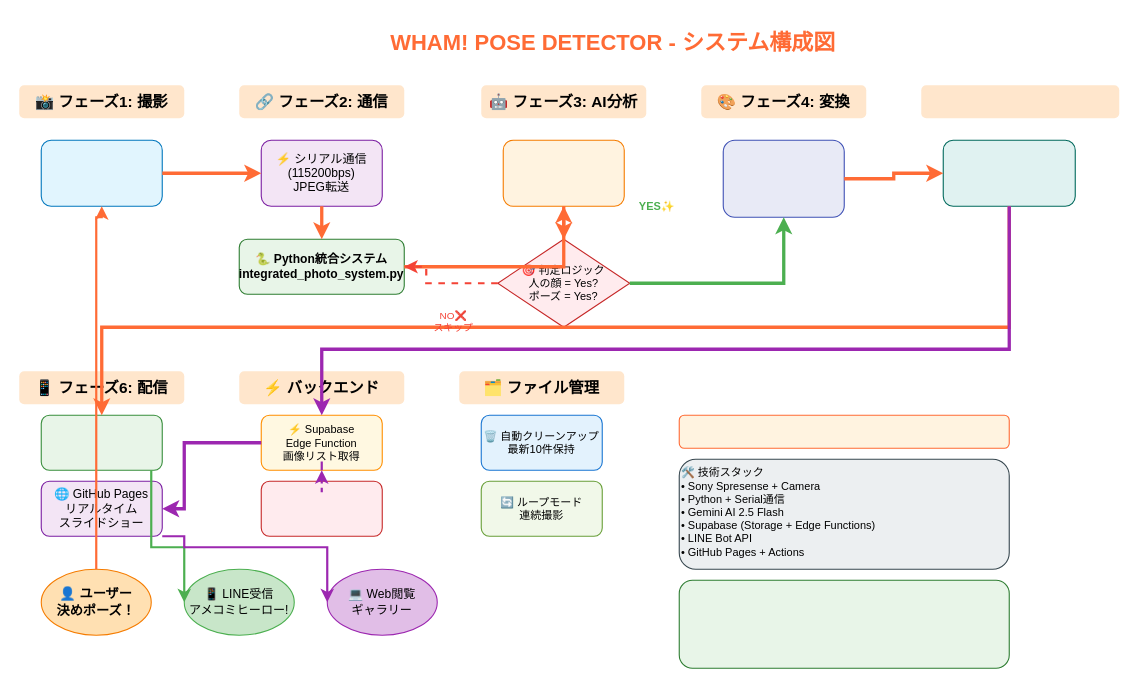
The diagram is 1137 pixels wide and 688 high, and some of its shapes have lost their labels. Here are the shapes that lost their labels. From the top down, the box of each, then its label:
(921, 85, 1119, 118): ☁️ フェーズ5: アップロード
(40, 139, 162, 206): 📷 Sony Spresense Camera Board
(502, 139, 624, 206): ✨ Gemini AI 2.5 Flash 人物・ポーズ検出 JSON応答
(722, 139, 844, 217): 💥 アメコミ風変換 ・太い輪郭線 ・鮮やか色彩 ・効果音追加
(942, 139, 1075, 206): 🗄️ Supabase Storage 画像アップロード 公開URL生成
(40, 414, 162, 470): 💬 LINE Bot アメコミ画像送信 プッシュ通知
(678, 414, 1009, 448): 🎯 WHAM効果音的自動化パイプライン
(260, 480, 382, 536): 🔄 自動更新 30秒間隔
(678, 579, 1009, 668): ⚡ 処理統計 • 撮影〜分析: 5-15秒 • アメコミ変換: 10-30秒 • アップロード〜配信: 2-5秒 • 合計: 約20-50秒/枚
